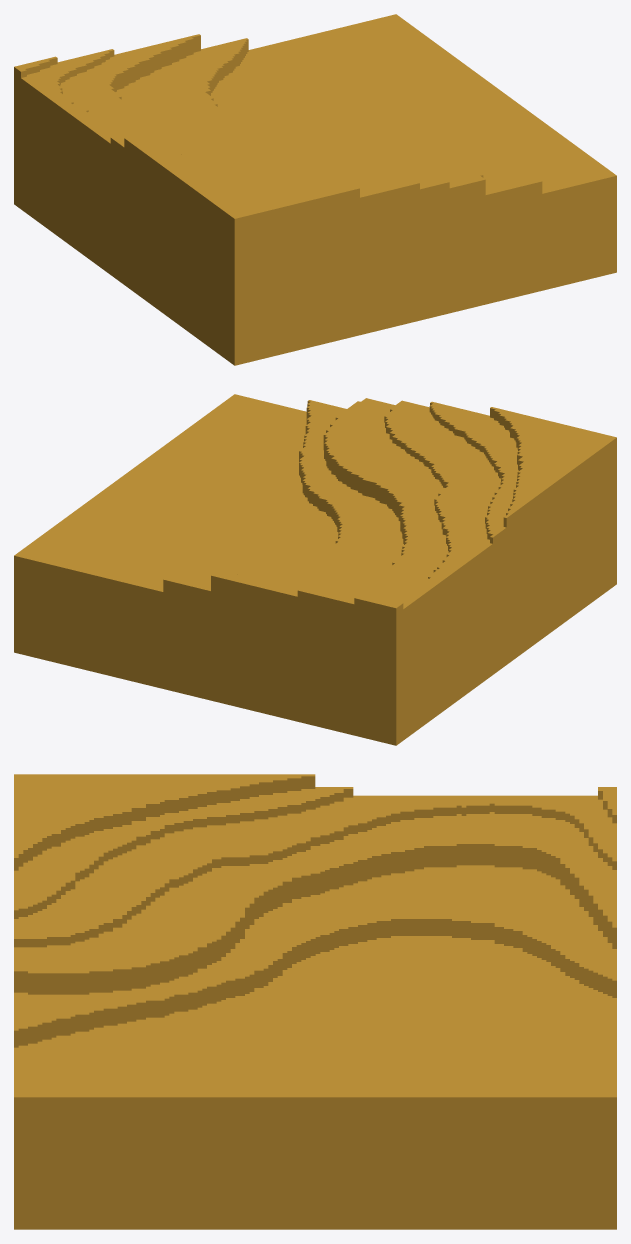
3 renders of one model, top to bottom at view 1: azimuth 30°, elevation 25°; view 2: azimuth 150°, elevation 25°; view 3: azimuth 270°, elevation 25°, orthographic. The views are drawn at different scales.
Visible parts, largest first — view 1: 13D; view 2: 13D; view 3: 13D.
Part boxes in pixels (box(x1,y1,x2,y2)): 13D: box(14, 14, 616, 365); 13D: box(14, 394, 616, 745); 13D: box(14, 774, 616, 1229).
Size of the model in its own units: 12.8 by 4.7 by 12.8.
Materials: 1 (1 with a texture image).
